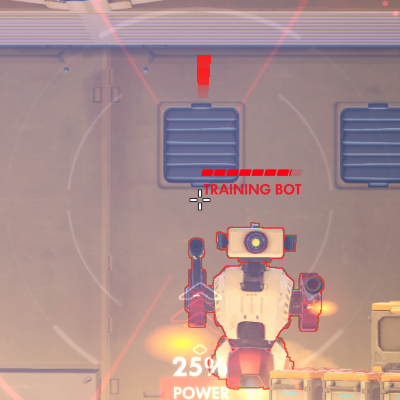hpbar: (200, 168, 302, 177)
